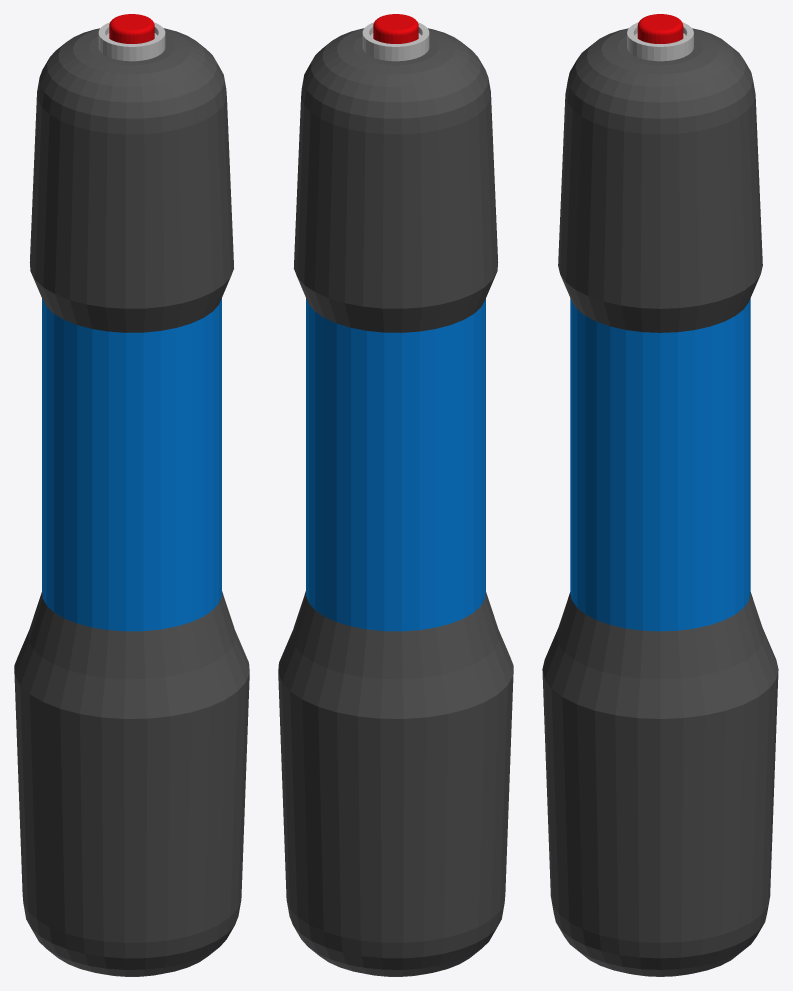
Rendered from grenade-test.fbx.
The picture shows the model from 3 angles, left to right: view 1: azimuth 30°, elevation 25°; view 2: azimuth 150°, elevation 25°; view 3: azimuth 270°, elevation 25°; orthographic projection.
Parts seen in each view (by area): view 1: Circle; view 2: Circle; view 3: Circle.
Boxes of the visible parts, x1,y1,x2,y2 form: Circle: (14,14,249,976); Circle: (278,14,513,976); Circle: (542,14,778,976).
Bounding box in the file's own units: 248 × 1077 × 248.
